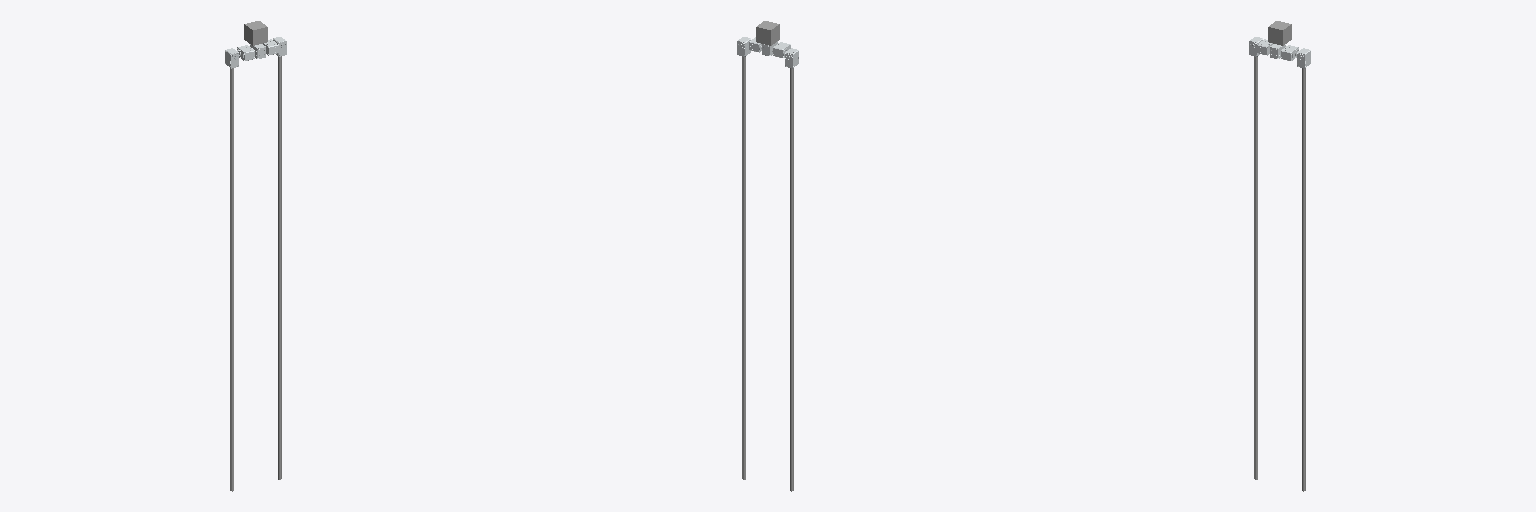
robot.urdf — chopstick_bot:
<?xml version='1.0' encoding='utf-8'?>
<robot name="chopstick_bot">
  <link name="world" />
  <joint name="world_to_base" type="fixed">
    <origin xyz="0.000000 0.000000 1.470000" rpy="0.000000 0.000000 0.000000" />
    <parent link="world" />
    <child link="base_motor_link" />
    </joint>
  <link name="base_motor_link">
    <visual>
      <origin xyz="0.000000 0.000000 0.000000" rpy="0.000000 0.000000 0.000000" />
      <geometry>
        <mesh filename="meshes/XL-430_new_coordinate_on_axis.STL" scale="0.001000 0.001000 0.001000" />
        </geometry>
      <material name="motor_mat">
        <color rgba="0.89804 0.91765 0.92941 1.0" />
        </material>
      </visual>
    <collision>
      <origin xyz="0.000000 -0.012000 0.000000" rpy="0.000000 0.000000 0.000000" />
      <geometry>
        <box size="0.028500 0.046500 0.034000" />
        </geometry>
      </collision>
    <inertial>
      <origin xyz="0.000000 -0.012000 0.000000" rpy="0.000000 0.000000 0.000000" />
      <mass value="0.065000" />
      <inertia ixx="0.000017973854" ixy="0" ixz="0" iyy="0.000010661354" iyz="0" izz="0.000016111875" />
      </inertial>
    </link>
  <link name="l_hip_pitch">
    <visual>
      <origin xyz="0.000000 0.000000 0.000000" rpy="0.000000 0.000000 0.000000" />
      <geometry>
        <mesh filename="meshes/XL-430_new_coordinate_on_axis.STL" scale="0.001000 0.001000 0.001000" />
        </geometry>
      <material name="motor_mat">
        <color rgba="0.89804 0.91765 0.92941 1.0" />
        </material>
      </visual>
    <collision>
      <origin xyz="0.000000 -0.012000 0.000000" rpy="0.000000 0.000000 0.000000" />
      <geometry>
        <box size="0.028500 0.046500 0.034000" />
        </geometry>
      </collision>
    <inertial>
      <origin xyz="0.000000 -0.012000 0.000000" rpy="0.000000 0.000000 0.000000" />
      <mass value="0.065000" />
      <inertia ixx="0.000017973854" ixy="0" ixz="0" iyy="0.000010661354" iyz="0" izz="0.000016111875" />
      </inertial>
    </link>
  <link name="l_hip_pitch_out">
    <inertial>
      <origin xyz="0.000000 0.000000 0.000000" rpy="0.000000 0.000000 0.000000" />
      <mass value="0.001000" />
      <inertia ixx="0.000000016667" ixy="0" ixz="0" iyy="0.000000016667" iyz="0" izz="0.000000016667" />
      </inertial>
    </link>
  <joint name="l_hip_pitch_mount_fixed" type="fixed">
    <origin xyz="-0.040000 0.000000 0.000000" rpy="0.000000 -1.570796 0.000000" />
    <parent link="base_motor_link" />
    <child link="l_hip_pitch" />
    </joint>
  <joint name="l_hip_pitch_joint" type="revolute">
    <origin xyz="0.000000 0.000000 0.000000" rpy="0.000000 0.000000 0.000000" />
    <parent link="l_hip_pitch" />
    <child link="l_hip_pitch_out" />
    <axis xyz="0.000000 0.000000 1.000000" />
    <limit lower="-3.14159" upper="3.14159" effort="5.0" velocity="8.0" />
    </joint>
  <link name="l_hip_roll">
    <visual>
      <origin xyz="0.000000 0.000000 0.000000" rpy="0.000000 0.000000 0.000000" />
      <geometry>
        <mesh filename="meshes/XL-430_new_coordinate_on_axis.STL" scale="0.001000 0.001000 0.001000" />
        </geometry>
      <material name="motor_mat">
        <color rgba="0.89804 0.91765 0.92941 1.0" />
        </material>
      </visual>
    <collision>
      <origin xyz="0.000000 -0.012000 0.000000" rpy="0.000000 0.000000 0.000000" />
      <geometry>
        <box size="0.028500 0.046500 0.034000" />
        </geometry>
      </collision>
    <inertial>
      <origin xyz="0.000000 -0.012000 0.000000" rpy="0.000000 0.000000 0.000000" />
      <mass value="0.065000" />
      <inertia ixx="0.000017973854" ixy="0" ixz="0" iyy="0.000010661354" iyz="0" izz="0.000016111875" />
      </inertial>
    </link>
  <link name="l_hip_roll_out">
    <inertial>
      <origin xyz="0.000000 0.000000 0.000000" rpy="0.000000 0.000000 0.000000" />
      <mass value="0.001000" />
      <inertia ixx="0.000000016667" ixy="0" ixz="0" iyy="0.000000016667" iyz="0" izz="0.000000016667" />
      </inertial>
    </link>
  <joint name="l_hip_roll_mount_fixed" type="fixed">
    <origin xyz="0.000000 0.000000 0.040000" rpy="0.000000 -1.570796 -1.570796" />
    <parent link="l_hip_pitch_out" />
    <child link="l_hip_roll" />
    </joint>
  <joint name="l_hip_roll_joint" type="revolute">
    <origin xyz="0.000000 0.000000 0.000000" rpy="0.000000 0.000000 0.000000" />
    <parent link="l_hip_roll" />
    <child link="l_hip_roll_out" />
    <axis xyz="0.000000 0.000000 1.000000" />
    <limit lower="-3.14159" upper="3.14159" effort="5.0" velocity="8.0" />
    </joint>
  <link name="l_end_effector">
    <visual>
      <origin xyz="0.000000 0.000000 0.000000" rpy="1.570796 0.000000 0.000000" />
      <geometry>
        <cylinder radius="0.005000" length="1.400000" />
        </geometry>
      <material name="cylinder_mat">
        <color rgba="0.7 0.7 0.7 1.0" />
        </material>
      </visual>
    <collision>
      <origin xyz="0.000000 -0.700000 0.000000" rpy="0.000000 0.000000 0.000000" />
      <geometry>
        <box size="0.020000 0.020000 0.020000" />
        </geometry>
      </collision>
    <inertial>
      <origin xyz="0.000000 0.000000 0.000000" rpy="0.000000 0.000000 0.000000" />
      <mass value="0.054978" />
      <inertia ixx="0.008980062613" ixy="0" ixz="0" iyy="0.008980062613" iyz="0" izz="0.000000687223" />
      </inertial>
    </link>
  <joint name="l_end_effector_fixed" type="fixed">
    <origin xyz="0.000000 -0.700000 0.000000" rpy="0.000000 0.000000 0.000000" />
    <parent link="l_hip_roll_out" />
    <child link="l_end_effector" />
    </joint>
  <link name="r_hip_pitch">
    <visual>
      <origin xyz="0.000000 0.000000 0.000000" rpy="0.000000 0.000000 0.000000" />
      <geometry>
        <mesh filename="meshes/XL-430_new_coordinate_on_axis.STL" scale="0.001000 0.001000 0.001000" />
        </geometry>
      <material name="motor_mat">
        <color rgba="0.89804 0.91765 0.92941 1.0" />
        </material>
      </visual>
    <collision>
      <origin xyz="0.000000 -0.012000 0.000000" rpy="0.000000 0.000000 0.000000" />
      <geometry>
        <box size="0.028500 0.046500 0.034000" />
        </geometry>
      </collision>
    <inertial>
      <origin xyz="0.000000 -0.012000 0.000000" rpy="0.000000 0.000000 0.000000" />
      <mass value="0.065000" />
      <inertia ixx="0.000017973854" ixy="0" ixz="0" iyy="0.000010661354" iyz="0" izz="0.000016111875" />
      </inertial>
    </link>
  <link name="r_hip_pitch_out">
    <inertial>
      <origin xyz="0.000000 0.000000 0.000000" rpy="0.000000 0.000000 0.000000" />
      <mass value="0.001000" />
      <inertia ixx="0.000000016667" ixy="0" ixz="0" iyy="0.000000016667" iyz="0" izz="0.000000016667" />
      </inertial>
    </link>
  <joint name="r_hip_pitch_mount_fixed" type="fixed">
    <origin xyz="0.040000 0.000000 0.000000" rpy="0.000000 1.570796 -0.000000" />
    <parent link="base_motor_link" />
    <child link="r_hip_pitch" />
    </joint>
  <joint name="r_hip_pitch_joint" type="revolute">
    <origin xyz="0.000000 0.000000 0.000000" rpy="0.000000 0.000000 0.000000" />
    <parent link="r_hip_pitch" />
    <child link="r_hip_pitch_out" />
    <axis xyz="0.000000 0.000000 1.000000" />
    <limit lower="-3.14159" upper="3.14159" effort="5.0" velocity="8.0" />
    </joint>
  <link name="r_hip_roll">
    <visual>
      <origin xyz="0.000000 0.000000 0.000000" rpy="0.000000 0.000000 0.000000" />
      <geometry>
        <mesh filename="meshes/XL-430_new_coordinate_on_axis.STL" scale="0.001000 0.001000 0.001000" />
        </geometry>
      <material name="motor_mat">
        <color rgba="0.89804 0.91765 0.92941 1.0" />
        </material>
      </visual>
    <collision>
      <origin xyz="0.000000 -0.012000 0.000000" rpy="0.000000 0.000000 0.000000" />
      <geometry>
        <box size="0.028500 0.046500 0.034000" />
        </geometry>
      </collision>
    <inertial>
      <origin xyz="0.000000 -0.012000 0.000000" rpy="0.000000 0.000000 0.000000" />
      <mass value="0.065000" />
      <inertia ixx="0.000017973854" ixy="0" ixz="0" iyy="0.000010661354" iyz="0" izz="0.000016111875" />
      </inertial>
    </link>
  <link name="r_hip_roll_out">
    <inertial>
      <origin xyz="0.000000 0.000000 0.000000" rpy="0.000000 0.000000 0.000000" />
      <mass value="0.001000" />
      <inertia ixx="0.000000016667" ixy="0" ixz="0" iyy="0.000000016667" iyz="0" izz="0.000000016667" />
      </inertial>
    </link>
  <joint name="r_hip_roll_mount_fixed" type="fixed">
    <origin xyz="-0.000000 0.000000 0.040000" rpy="0.000000 1.570796 1.570796" />
    <parent link="r_hip_pitch_out" />
    <child link="r_hip_roll" />
    </joint>
  <joint name="r_hip_roll_joint" type="revolute">
    <origin xyz="0.000000 0.000000 0.000000" rpy="0.000000 0.000000 0.000000" />
    <parent link="r_hip_roll" />
    <child link="r_hip_roll_out" />
    <axis xyz="0.000000 0.000000 1.000000" />
    <limit lower="-3.14159" upper="3.14159" effort="5.0" velocity="8.0" />
    </joint>
  <link name="r_end_effector">
    <visual>
      <origin xyz="0.000000 0.000000 0.000000" rpy="1.570796 0.000000 0.000000" />
      <geometry>
        <cylinder radius="0.005000" length="1.400000" />
        </geometry>
      <material name="cylinder_mat">
        <color rgba="0.7 0.7 0.7 1.0" />
        </material>
      </visual>
    <collision>
      <origin xyz="0.000000 -0.700000 0.000000" rpy="0.000000 0.000000 0.000000" />
      <geometry>
        <box size="0.020000 0.020000 0.020000" />
        </geometry>
      </collision>
    <inertial>
      <origin xyz="0.000000 0.000000 0.000000" rpy="0.000000 0.000000 0.000000" />
      <mass value="0.054978" />
      <inertia ixx="0.008980062613" ixy="0" ixz="0" iyy="0.008980062613" iyz="0" izz="0.000000687223" />
      </inertial>
    </link>
  <joint name="r_end_effector_fixed" type="fixed">
    <origin xyz="-0.000000 -0.700000 0.000000" rpy="0.000000 -0.000000 0.000000" />
    <parent link="r_hip_roll_out" />
    <child link="r_end_effector" />
    </joint>
  <link name="trunk_link">
    <visual>
      <origin xyz="0.000000 0.000000 0.000000" rpy="0.000000 0.000000 0.000000" />
      <geometry>
        <box size="0.050000 0.050000 0.050000" />
        </geometry>
      <material name="box_mat">
        <color rgba="0.7 0.7 0.7 1.0" />
        </material>
      </visual>
    <collision>
      <origin xyz="0.000000 0.000000 0.000000" rpy="0.000000 0.000000 0.000000" />
      <geometry>
        <box size="0.050000 0.050000 0.050000" />
        </geometry>
      </collision>
    <inertial>
      <origin xyz="0.000000 0.000000 0.000000" rpy="0.000000 0.000000 0.000000" />
      <mass value="0.200000" />
      <inertia ixx="0.000083333333" ixy="0" ixz="0" iyy="0.000083333333" iyz="0" izz="0.000083333333" />
      </inertial>
    </link>
  <joint name="base_to_trunk" type="revolute">
    <origin xyz="0.000000 0.000000 0.050000" rpy="0.000000 0.000000 0.000000" />
    <parent link="base_motor_link" />
    <child link="trunk_link" />
    <axis xyz="0.000000 0.000000 1.000000" />
    <limit lower="-3.14159" upper="3.14159" effort="5.0" velocity="8.0" />
    </joint>
  </robot>

--- Render facts (derived) ---
3 views of the same robot in one strip: view 1: azimuth 30°, elevation 25°; view 2: azimuth 150°, elevation 25°; view 3: azimuth 330°, elevation 25° (orthographic).
Robot: chopstick_bot — 13 links, 12 joints (5 revolute, 7 fixed); root link world; default pose: all joints at 0.
Links seen in each view (by area): view 1: l_end_effector, r_end_effector; view 2: l_end_effector, r_end_effector; view 3: l_end_effector, r_end_effector.
Link boxes in pixels (x1,y1,x2,y2): l_end_effector: [230, 68, 233, 491]; r_end_effector: [278, 56, 281, 479]; l_end_effector: [790, 68, 793, 491]; r_end_effector: [742, 56, 745, 479]; l_end_effector: [1254, 56, 1257, 479]; r_end_effector: [1302, 68, 1305, 491].
Bounding box of the posed robot: 0.1885 × 0.0602 × 1.48 m (x, y, z).
Meshes: 1 distinct files referenced, 5 mesh visuals loaded (1 binary STL).
